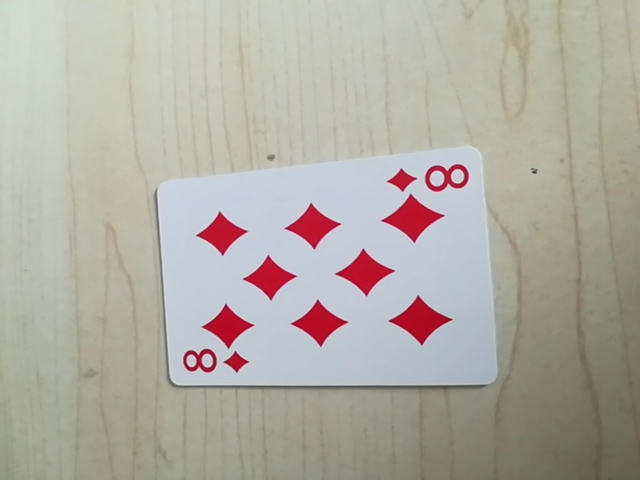fk 8: (384, 156, 474, 199), (177, 345, 251, 383)
